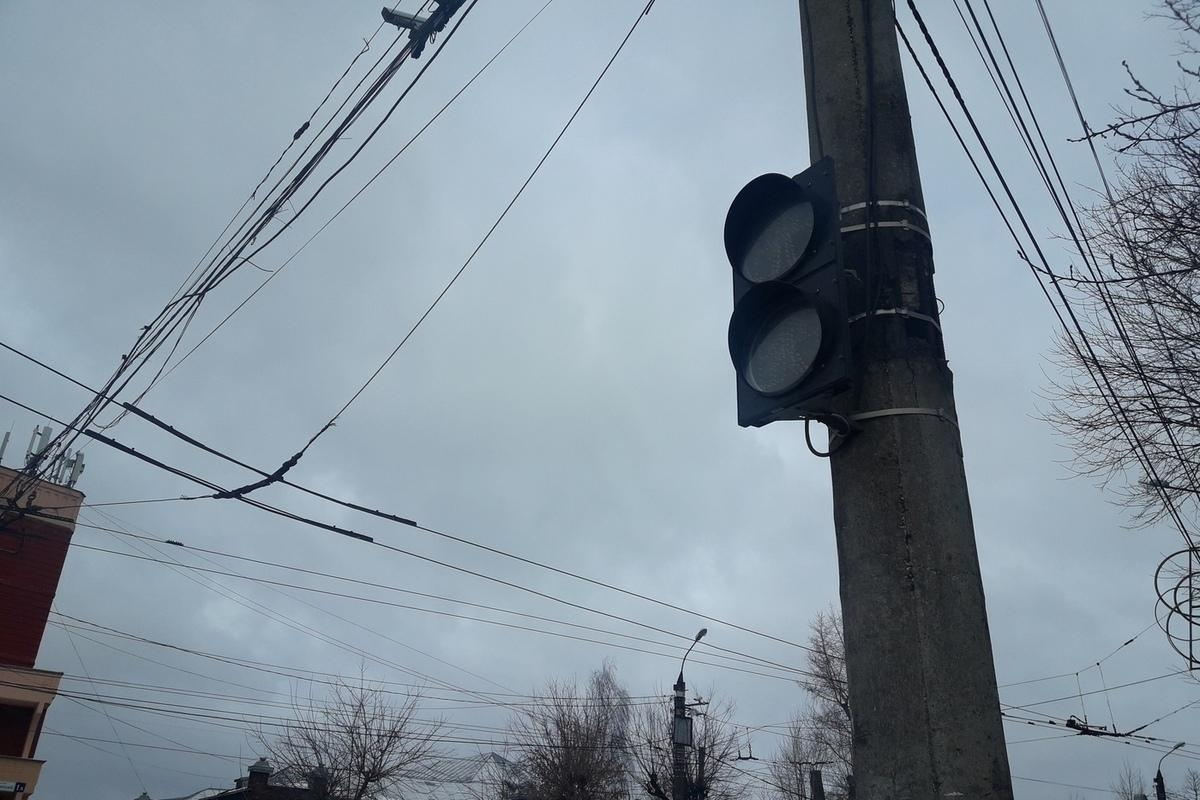off traffic light: (724, 157, 853, 427)
